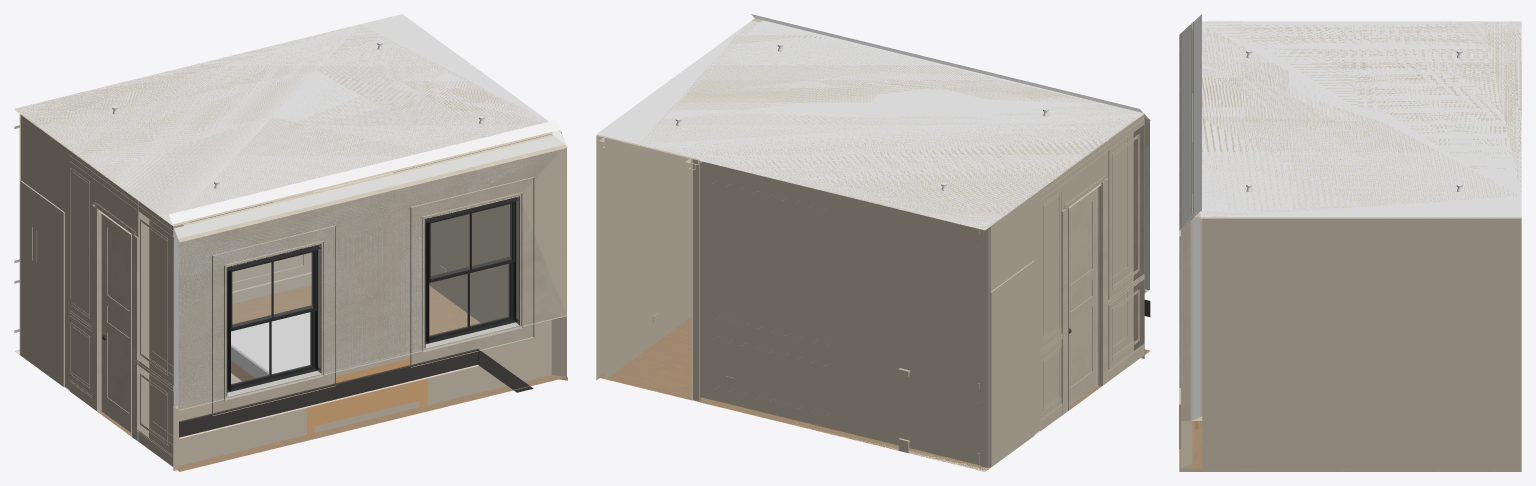
File: blue-bedroom-e57437e8db10.glb
3 renders of one model, left to right at view 1: azimuth 30°, elevation 25°; view 2: azimuth 150°, elevation 25°; view 3: azimuth 270°, elevation 25°, orthographic. The views are drawn at different scales.
Visible parts, largest first — view 1: blue-bedroom-9d91b47435c6fb33, blue-bedroom-bddaf205afbd60c0, blue-bedroom-e8793759323e04f0, blue-bedroom-df3e1f21720b0c39, blue-bedroom-ed5fdcd3ee9c0dd5, blue-bedroom-649b3532e9781727, blue-bedroom-3c3de67e8dd93323, blue-bedroom-2f7d8eff34a2c180, blue-bedroom-ead09a0b3f9e3bd9, blue-bedroom-d558d227e2c2e58e, blue-bedroom-746250f96522f643, blue-bedroom-64753ebcb3824a84 (+15 smaller); view 2: blue-bedroom-6e269356ae8bfd70, blue-bedroom-9d91b47435c6fb33, blue-bedroom-e8793759323e04f0, blue-bedroom-746250f96522f643, blue-bedroom-ed5fdcd3ee9c0dd5, blue-bedroom-ead09a0b3f9e3bd9, blue-bedroom-3e649b0d114ae387, blue-bedroom-bf159a19de53e60e, blue-bedroom-2575515a05775d9e, blue-bedroom-8798d08755b4aa77, blue-bedroom-95684fa6df9df9bf, blue-bedroom-1e72e6a7b41a2abd (+6 smaller); view 3: blue-bedroom-746250f96522f643, blue-bedroom-9d91b47435c6fb33, blue-bedroom-e8793759323e04f0, blue-bedroom-2575515a05775d9e, blue-bedroom-0a6e1f8a567f4490, blue-bedroom-49f6d498b24b79cd, blue-bedroom-64753ebcb3824a84, blue-bedroom-df3e1f21720b0c39, blue-bedroom-34525a54e63b733b, blue-bedroom-2f7d8eff34a2c180, blue-bedroom-4edf3a9420c06709, blue-bedroom-bddaf205afbd60c0 (+1 smaller).
Boxes of the visible parts, x1,y1,x2,y2 form: blue-bedroom-9d91b47435c6fb33: [14, 14, 552, 226]; blue-bedroom-bddaf205afbd60c0: [178, 144, 566, 409]; blue-bedroom-e8793759323e04f0: [15, 26, 560, 224]; blue-bedroom-df3e1f21720b0c39: [178, 145, 567, 410]; blue-bedroom-ed5fdcd3ee9c0dd5: [19, 114, 149, 441]; blue-bedroom-649b3532e9781727: [425, 195, 519, 343]; blue-bedroom-3c3de67e8dd93323: [227, 244, 321, 392]; blue-bedroom-2f7d8eff34a2c180: [173, 315, 566, 470]; blue-bedroom-ead09a0b3f9e3bd9: [20, 181, 64, 386]; blue-bedroom-d558d227e2c2e58e: [231, 312, 427, 434]; blue-bedroom-746250f96522f643: [393, 135, 546, 322]; blue-bedroom-64753ebcb3824a84: [174, 136, 564, 409]; blue-bedroom-6e269356ae8bfd70: [700, 159, 990, 471]; blue-bedroom-9d91b47435c6fb33: [596, 20, 1143, 229]; blue-bedroom-e8793759323e04f0: [641, 14, 1142, 228]; blue-bedroom-746250f96522f643: [596, 135, 690, 378]; blue-bedroom-ed5fdcd3ee9c0dd5: [980, 139, 1108, 467]; blue-bedroom-ead09a0b3f9e3bd9: [990, 261, 1034, 467]; blue-bedroom-3e649b0d114ae387: [1108, 113, 1144, 369]; blue-bedroom-bf159a19de53e60e: [1069, 187, 1098, 406]; blue-bedroom-2575515a05775d9e: [596, 317, 1150, 471]; blue-bedroom-8798d08755b4aa77: [1061, 178, 1107, 414]; blue-bedroom-95684fa6df9df9bf: [691, 158, 699, 401]; blue-bedroom-1e72e6a7b41a2abd: [709, 180, 832, 346]; blue-bedroom-746250f96522f643: [1202, 217, 1521, 468]; blue-bedroom-9d91b47435c6fb33: [1192, 21, 1521, 218]; blue-bedroom-e8793759323e04f0: [1194, 14, 1521, 217]; blue-bedroom-2575515a05775d9e: [1179, 404, 1521, 471]; blue-bedroom-0a6e1f8a567f4490: [1181, 220, 1190, 420]; blue-bedroom-49f6d498b24b79cd: [1192, 216, 1200, 420]; blue-bedroom-64753ebcb3824a84: [1182, 24, 1190, 226]; blue-bedroom-df3e1f21720b0c39: [1179, 33, 1181, 403]; blue-bedroom-34525a54e63b733b: [1200, 218, 1202, 420]; blue-bedroom-2f7d8eff34a2c180: [1179, 388, 1192, 467]; blue-bedroom-4edf3a9420c06709: [1191, 218, 1192, 420]; blue-bedroom-bddaf205afbd60c0: [1181, 32, 1182, 227].
Bounding box in the file's own units: 4.88 × 3.04 × 3.6.
Materials: 27 (5 with a texture image).
